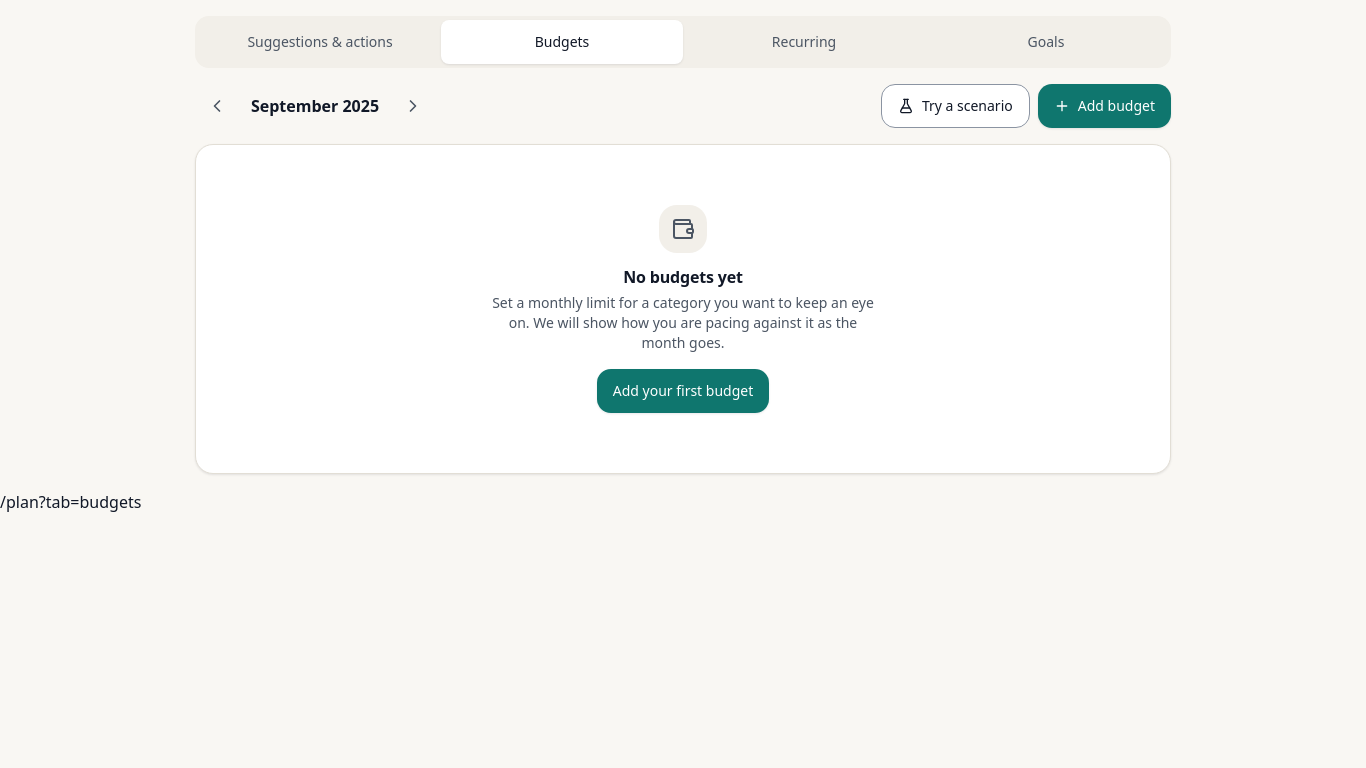
Test: Budgets › rejects an amount of 0 with an inline message and does not save
The width and height of the screenshot is (1366, 768).
Click the button "Add budget": x=1104, y=106 top-left (1038, 84), bottom-right (1171, 128)
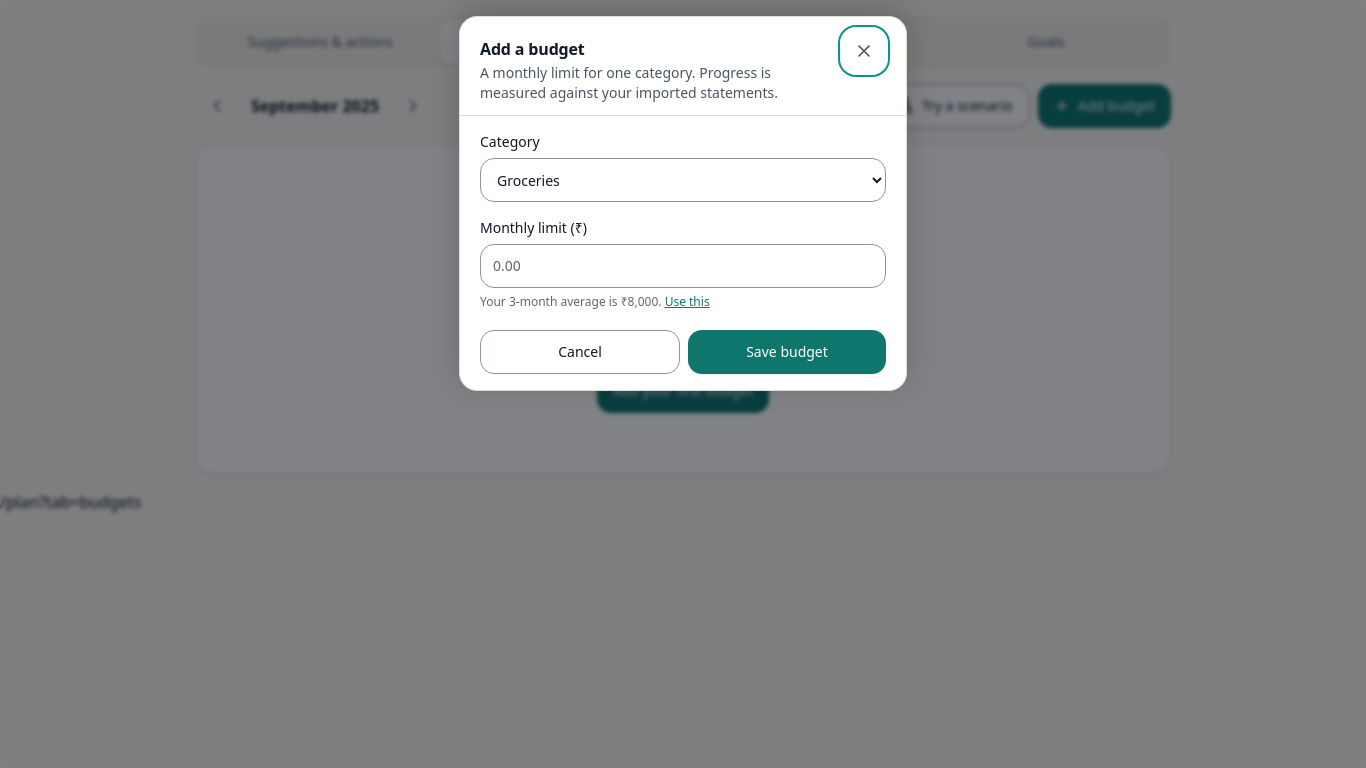
In the field labelled "Monthly limit (₹)": x=683, y=266 top-left (480, 244), bottom-right (886, 288), type "0"
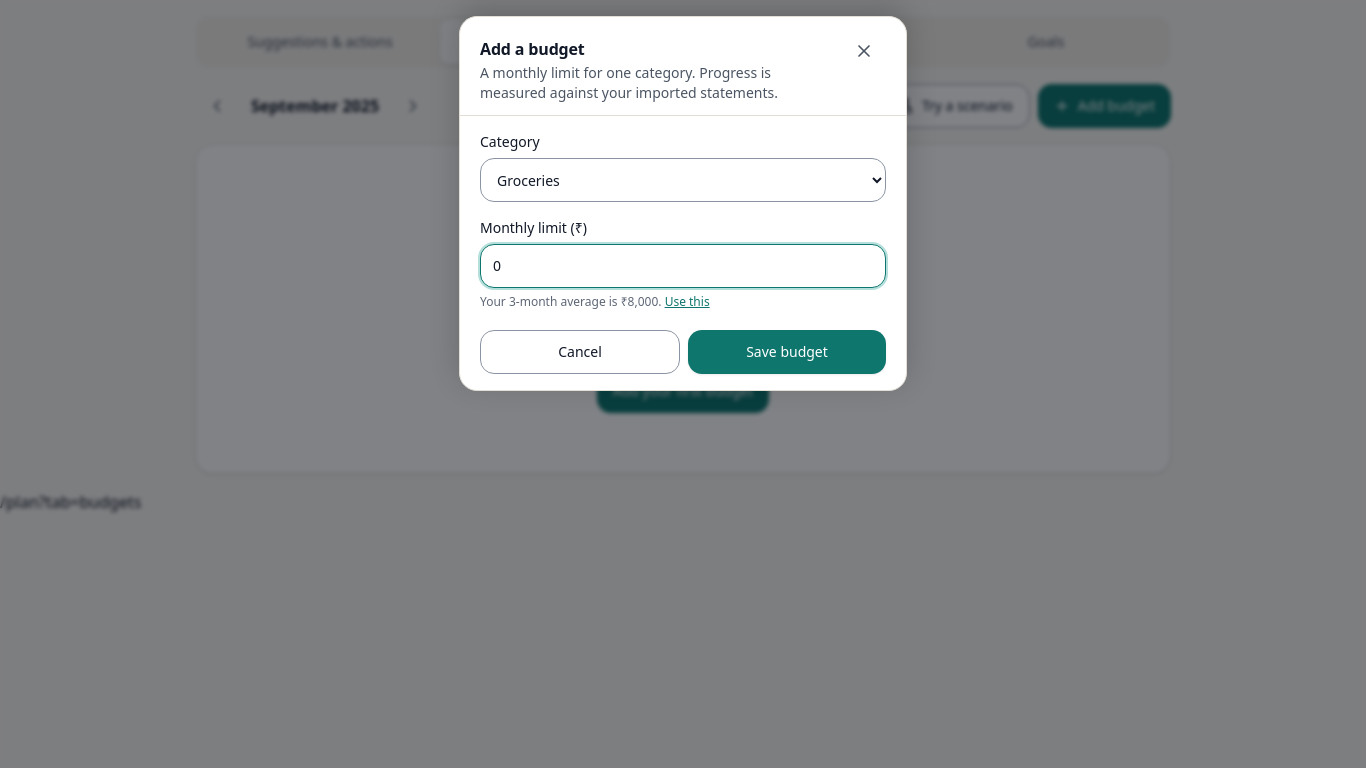
Click the button "Save budget": x=787, y=352 top-left (688, 330), bottom-right (886, 374)
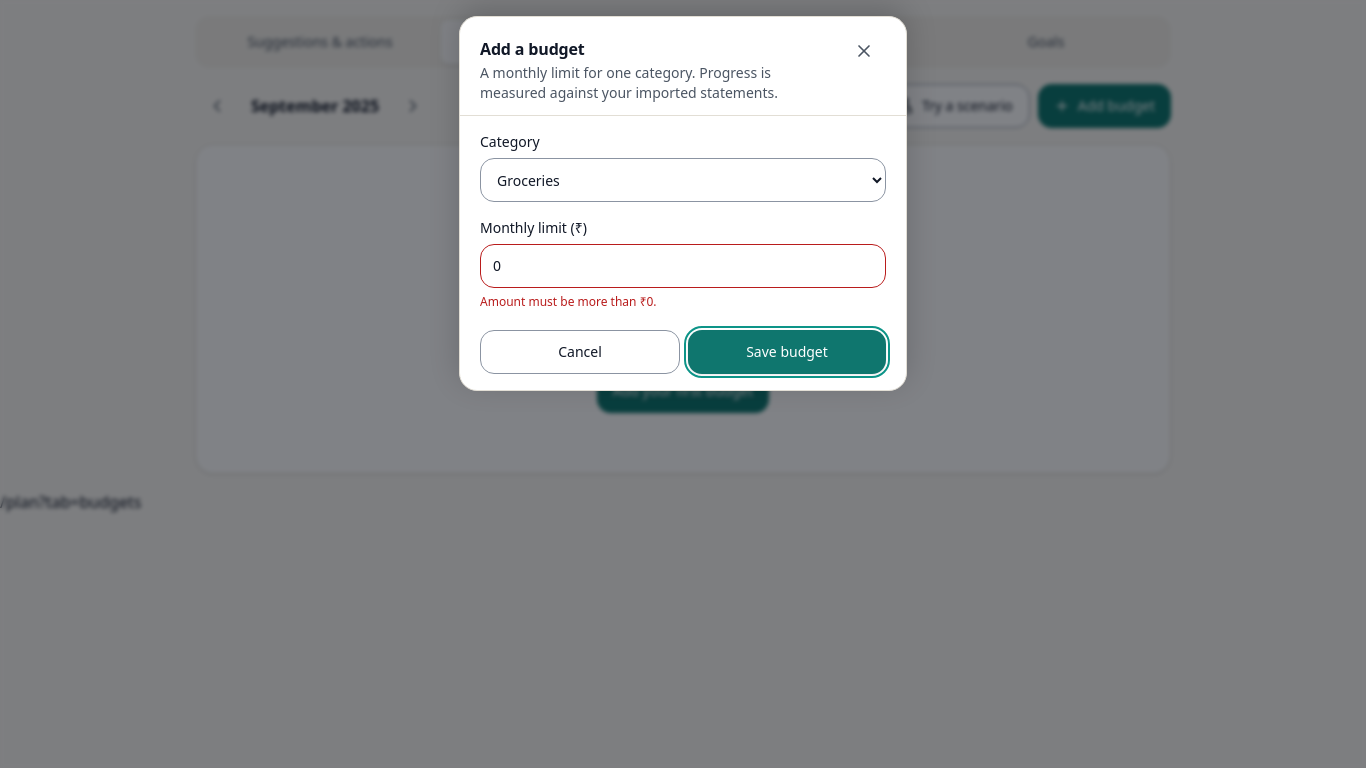
Check: the text "Amount must be more than ₹0." is shown, box top-left (480, 293), bottom-right (657, 310)
